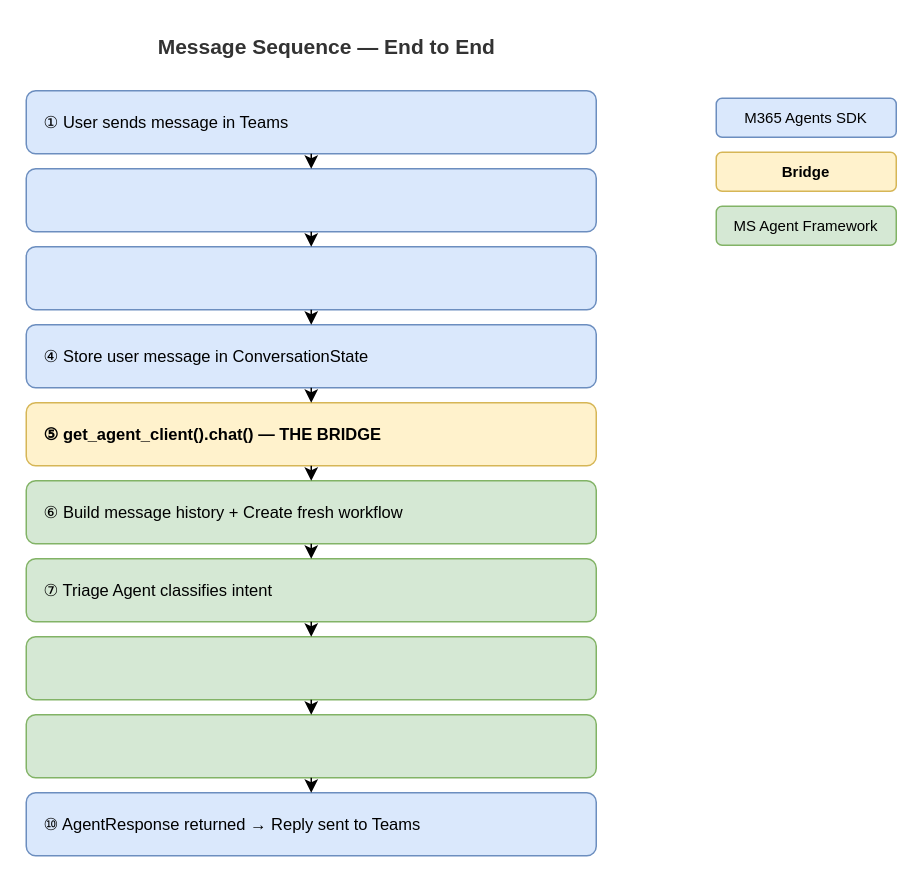
This 923x882 diagram has some shape labels left out. Here are the shapes that lost their labels. From the top down, the centre of each, then its label:
point 310,199: ② M365 Bot Service routes message (UAMI auth)
point 310,277: ③ aiohttp validates JWT → @AGENT_APP.message() handler
point 310,667: ⑧ Handoff → Web Agent executes tools (Bing, MCP, acronyms)
point 310,745: ⑨ Extract handoff chain, enrich OpenTelemetry spans
